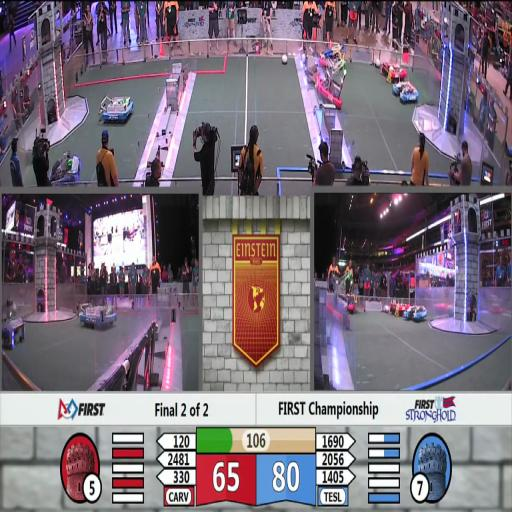robot: (325, 268, 357, 331), (316, 60, 346, 106), (0, 297, 26, 350), (98, 89, 135, 124), (49, 153, 83, 185), (80, 304, 119, 330), (382, 48, 408, 80), (392, 80, 420, 103), (403, 303, 429, 323), (391, 298, 411, 314), (342, 292, 356, 310)
